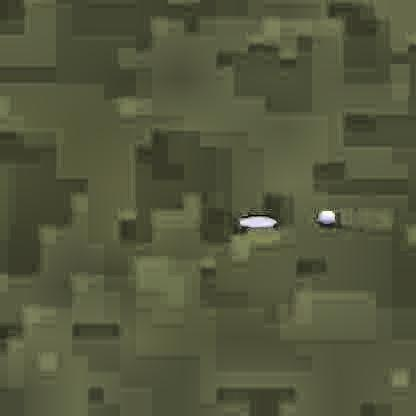golfball: (315, 206, 333, 223)
